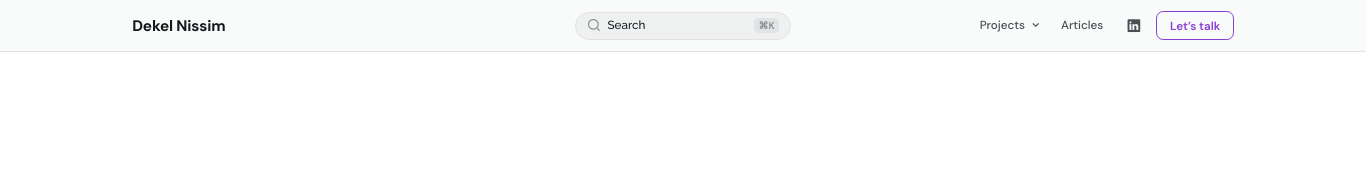
Test case: SiteNav › opens the projects dropdown with links to each case study
Click the button "Projects" at [1011, 26], box x1=972 y1=7 x2=1051 y2=44
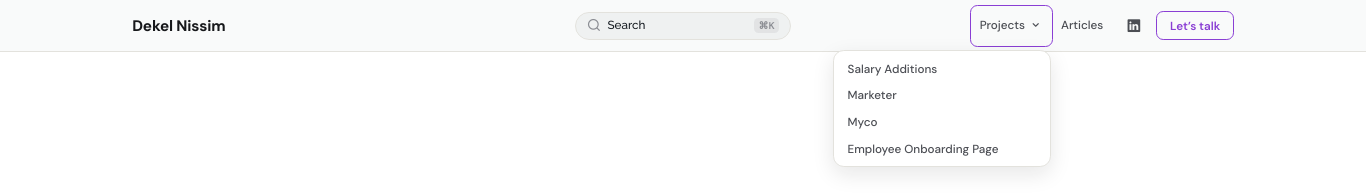
expect the link "Salary Additions" is shown: met, box x1=848 y1=61 x2=937 y2=77
expect the link "Myco" is shown: met, box x1=848 y1=114 x2=878 y2=130
